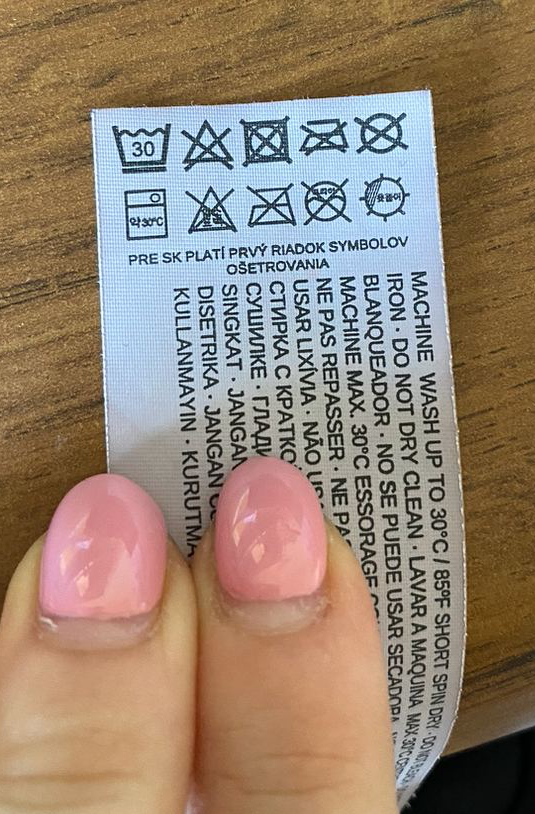do_not_bleach: (180, 116, 235, 174), (184, 184, 239, 236)
do_not_dry_clean: (354, 107, 410, 157)
do_not_iron: (244, 180, 298, 230), (298, 113, 351, 157)
do_not_tumble_drying: (239, 111, 295, 168)
wash_at_or_below_30_mild_fine_wash: (110, 118, 175, 178)
